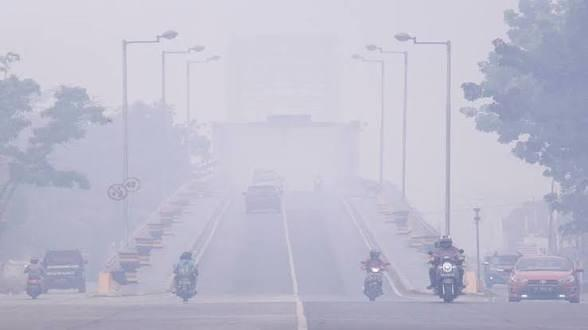Kendaraan: (507, 252, 582, 303), (39, 249, 86, 293), (427, 255, 468, 304), (483, 253, 519, 293), (243, 184, 283, 213), (359, 264, 389, 302), (171, 265, 199, 302), (22, 266, 46, 299), (249, 168, 283, 189)
Manusia: (427, 235, 466, 284), (361, 249, 388, 280), (175, 250, 198, 283), (24, 255, 43, 280)
Vegetasi: (457, 0, 588, 243), (0, 54, 114, 235)
